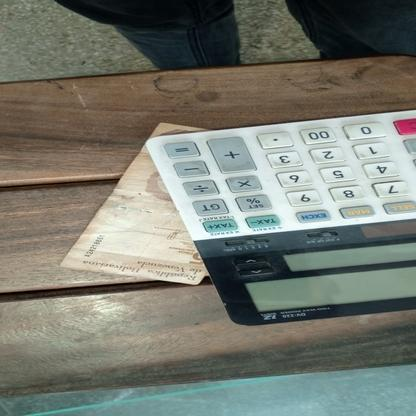five-front-vef: (58, 122, 209, 284)
